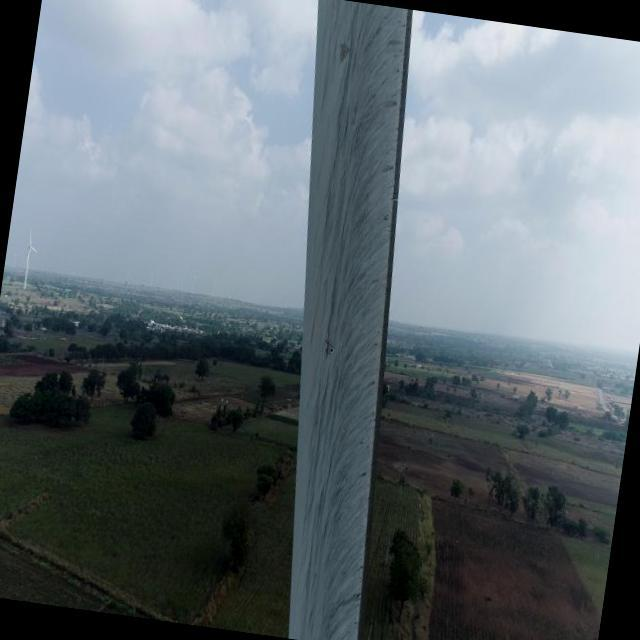Dirt: (285, 0, 409, 640)
